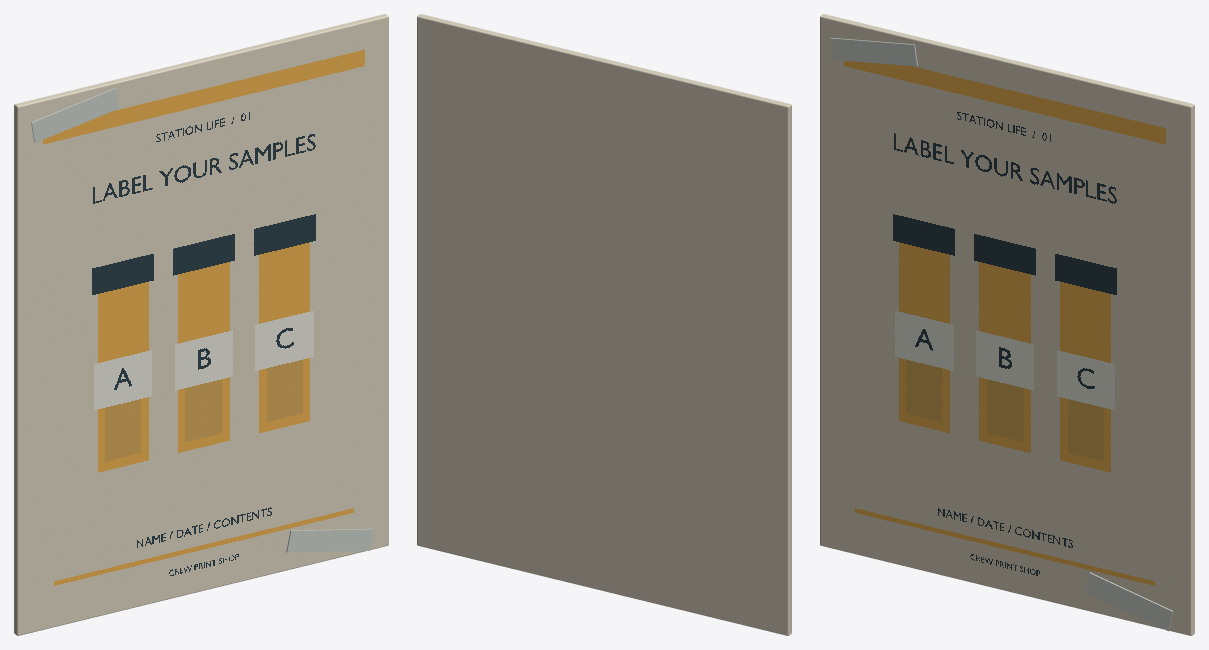
File: lbd_poster_samples.glb
3 views of the same model, side by side, from view 1: azimuth 30°, elevation 25°; view 2: azimuth 150°, elevation 25°; view 3: azimuth 330°, elevation 25° (orthographic).
Visible parts, largest first — view 1: poster_samples__poster_samples_004, poster_samples__backing_003, poster_samples__paper tape_007, poster_samples__paper tape_010; view 2: poster_samples__backing_003; view 3: poster_samples__poster_samples_004, poster_samples__backing_003, poster_samples__paper tape_010, poster_samples__paper tape_007.
Boxes of the visible parts, x1=… form: poster_samples__poster_samples_004: x1=24, y1=25, x2=382, y2=627; poster_samples__backing_003: x1=14, y1=14, x2=388, y2=635; poster_samples__paper tape_007: x1=31, y1=88, x2=118, y2=142; poster_samples__paper tape_010: x1=286, y1=528, x2=374, y2=552; poster_samples__backing_003: x1=417, y1=14, x2=791, y2=635; poster_samples__poster_samples_004: x1=826, y1=25, x2=1184, y2=627; poster_samples__backing_003: x1=820, y1=14, x2=1194, y2=635; poster_samples__paper tape_010: x1=1085, y1=572, x2=1173, y2=631; poster_samples__paper tape_007: x1=830, y1=37, x2=917, y2=66.
Size of the model in its own units: 0.83 by 1.13 by 0.0225.
3 materials, 1 textured.
